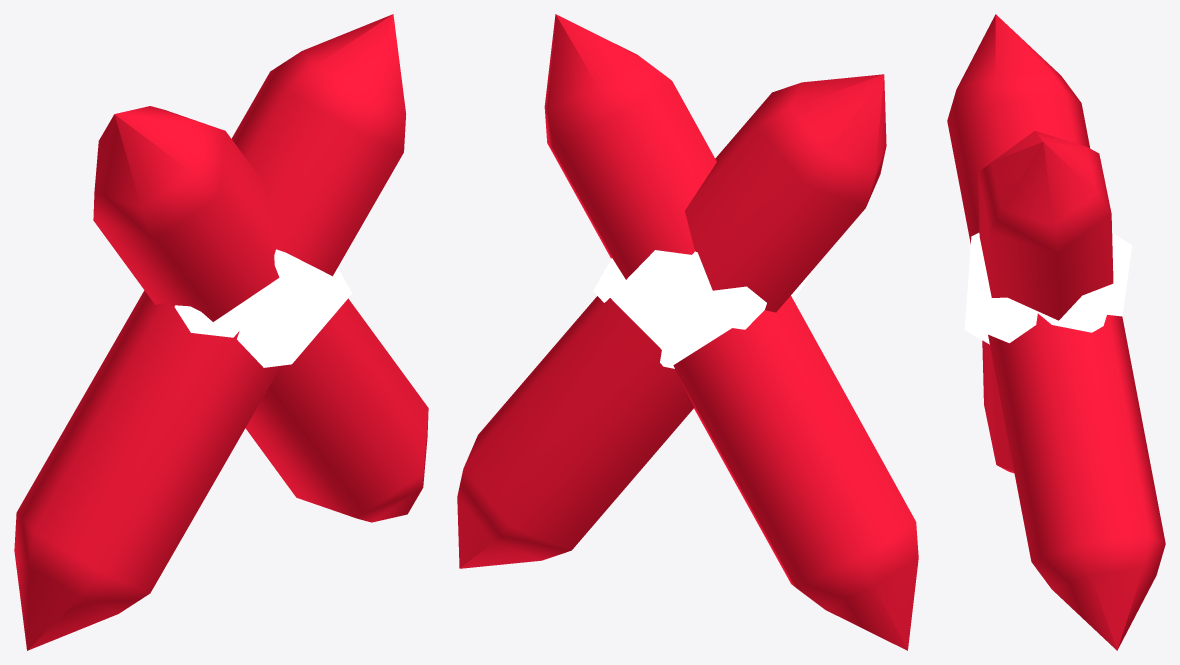
File: 04-zwilling.glb
3 renders of one model, left to right at view 1: azimuth 30°, elevation 25°; view 2: azimuth 150°, elevation 25°; view 3: azimuth 270°, elevation 25°, orthographic. The views are drawn at different scales.
Visible parts, largest first — view 1: twinB, twinA, core; view 2: twinB, twinA, core; view 3: twinA, twinB, core.
Part boxes in pixels (left/top/right/bottom): twinB: left=14, top=14, right=406, bottom=650; twinA: left=93, top=106, right=428, bottom=522; core: left=174, top=249, right=351, bottom=367; twinB: left=544, top=14, right=918, bottom=650; twinA: left=457, top=74, right=886, bottom=568; core: left=593, top=250, right=809, bottom=368; twinA: left=947, top=14, right=1165, bottom=650; twinB: left=978, top=131, right=1113, bottom=473; core: left=964, top=233, right=1132, bottom=344.
Size of the model in its own units: 1.42 by 1.76 by 0.7068.
